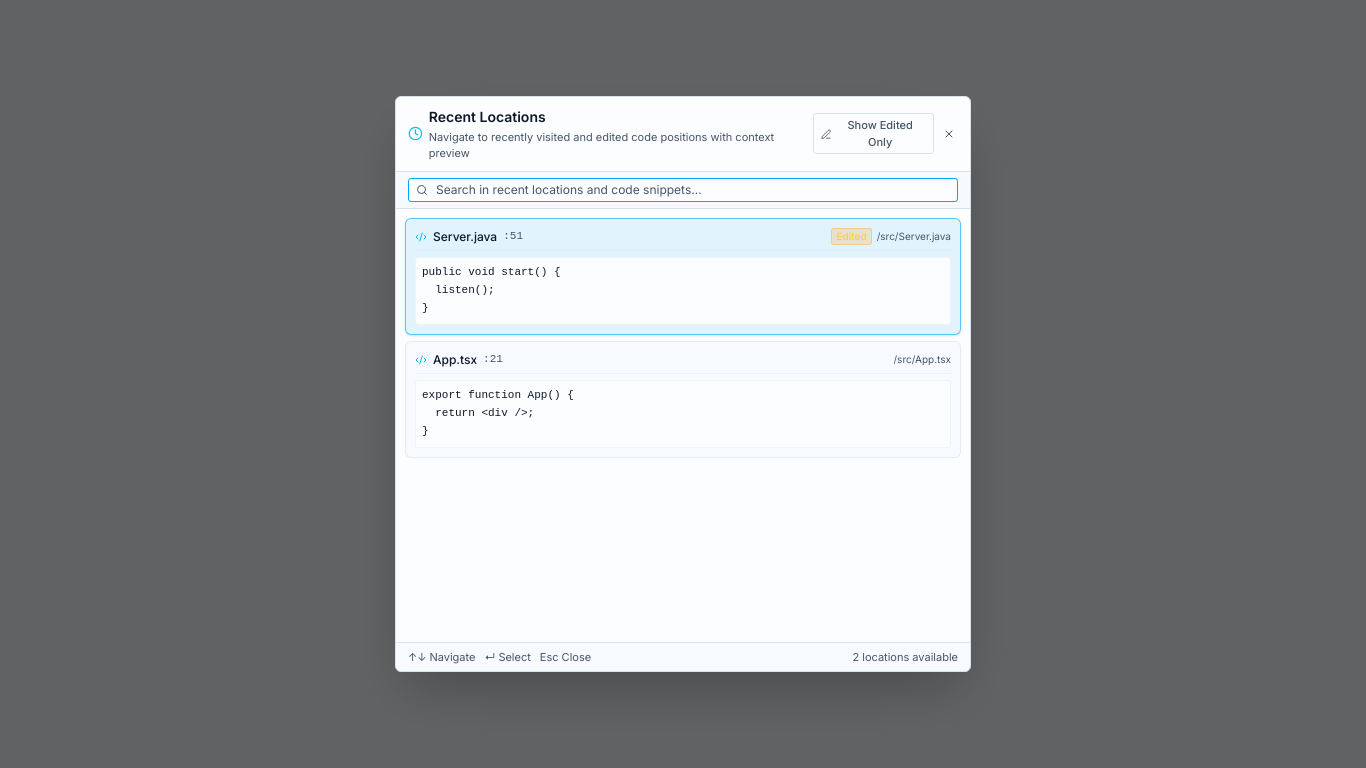
it: RecentLocationsDialog › toggles show edited only filter
This screenshot has width=1366, height=768.
Click the button with test id "recent-locations-toggle-changed".
click(874, 134)  # box [813,113,934,154]
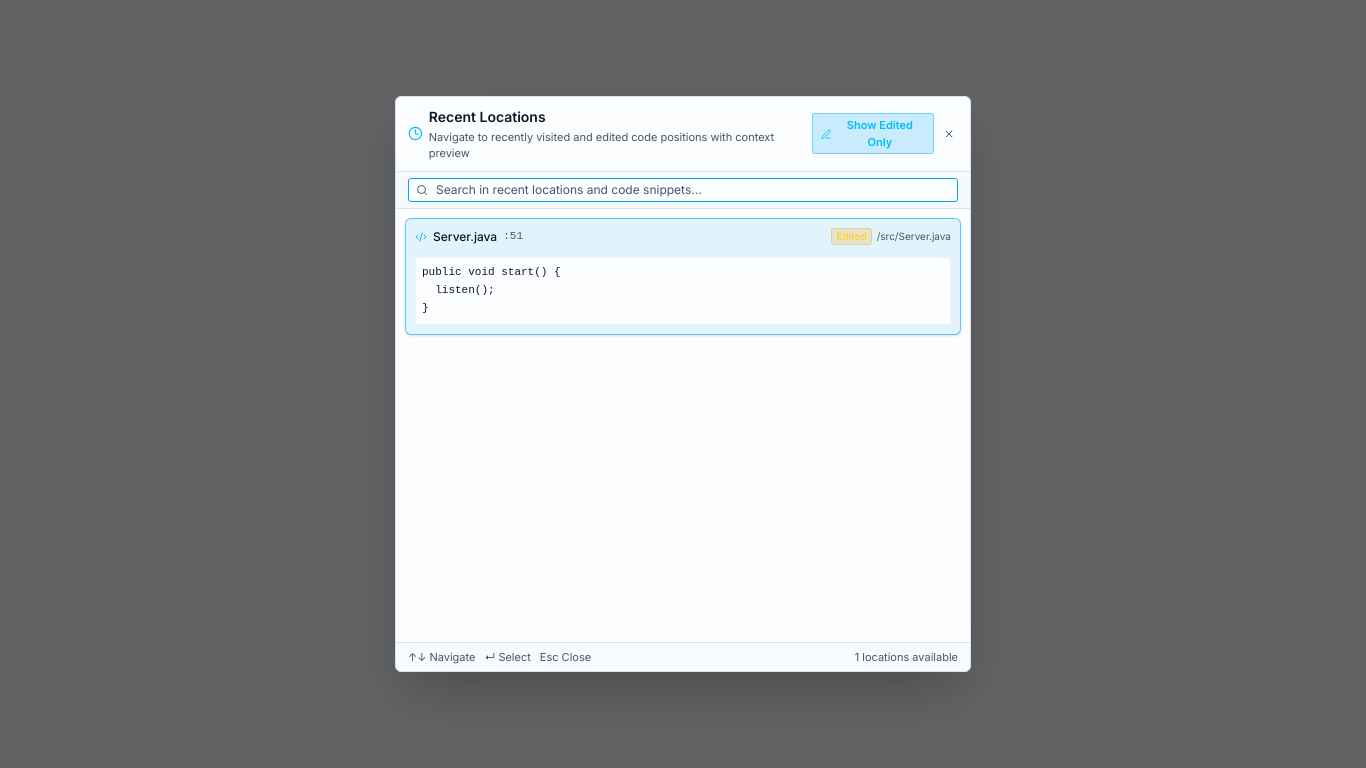
Expected: the text "Server.java" is shown, [433,228,497,246]
Now the text "App.tsx" is gone
